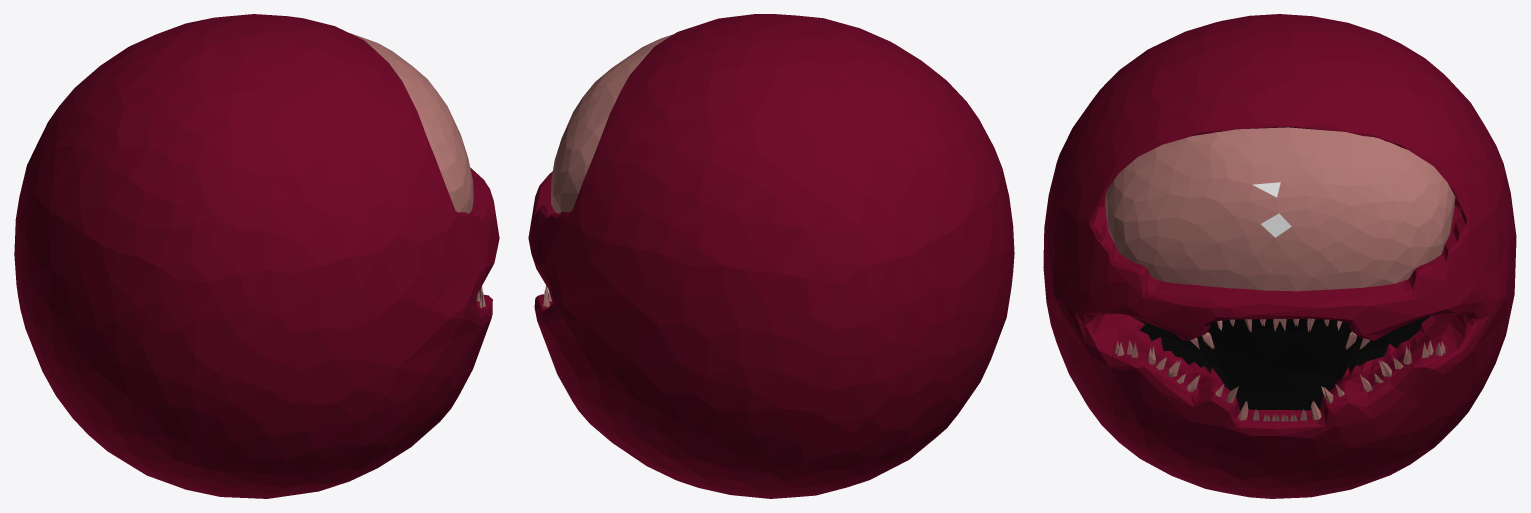
Rendered from Pacman.glb.
3 views of the same model, side by side, from view 1: azimuth 30°, elevation 25°; view 2: azimuth 150°, elevation 25°; view 3: azimuth 270°, elevation 25° (orthographic).
Visible parts, largest first — view 1: Cube.028, Sphere.002; view 2: Cube.028, Sphere.002; view 3: Cube.028, Sphere.002.
Boxes of the visible parts, <box> form: Cube.028: <box>14,14,499,498</box>; Sphere.002: <box>350,33,473,213</box>; Cube.028: <box>528,14,1014,498</box>; Sphere.002: <box>551,34,673,213</box>; Cube.028: <box>1043,14,1516,498</box>; Sphere.002: <box>1105,127,1455,291</box>.
Bounding box in the file's own units: 9.56 × 9.63 × 9.55.
